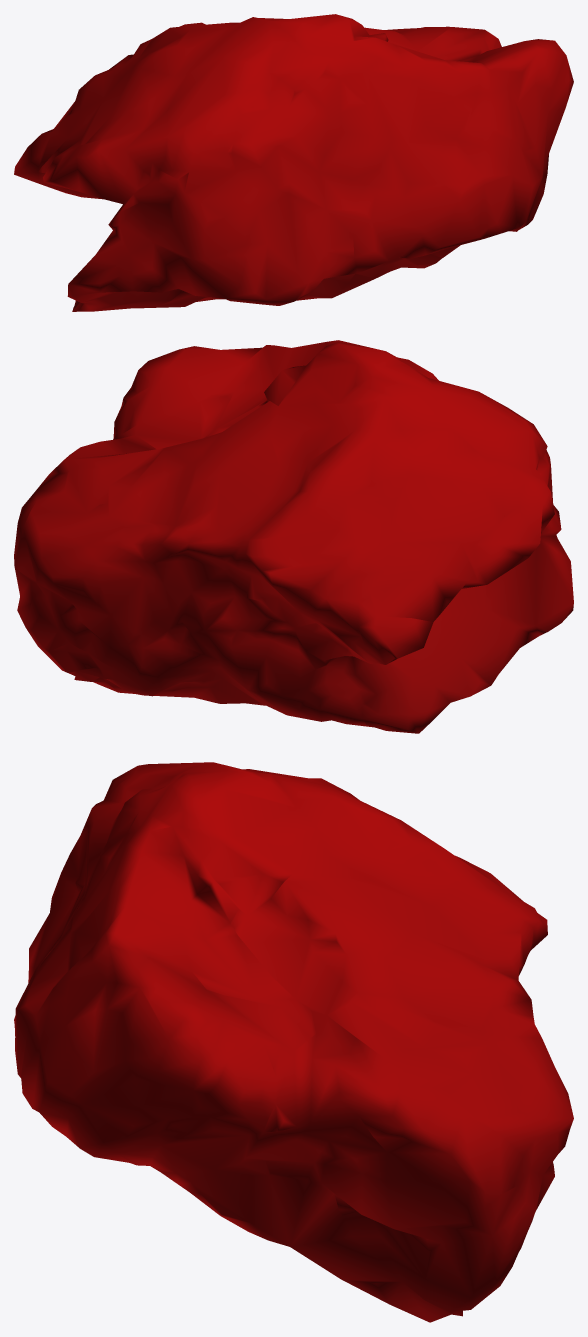
File: mossrock_b_11.glb
3 renders of one model, top to bottom at view 1: azimuth 30°, elevation 25°; view 2: azimuth 150°, elevation 25°; view 3: azimuth 270°, elevation 25°, orthographic. The views are drawn at different scales.
Parts seen in each view (by area): view 1: LOD0; view 2: LOD0; view 3: LOD0.
Boxes of the visible parts, x1,y1,x2,y2 form: LOD0: (14, 14, 573, 311); LOD0: (14, 340, 573, 733); LOD0: (14, 762, 573, 1322).
Size of what is drawn, in the model's own units: 1.95 by 1.31 by 1.53.
